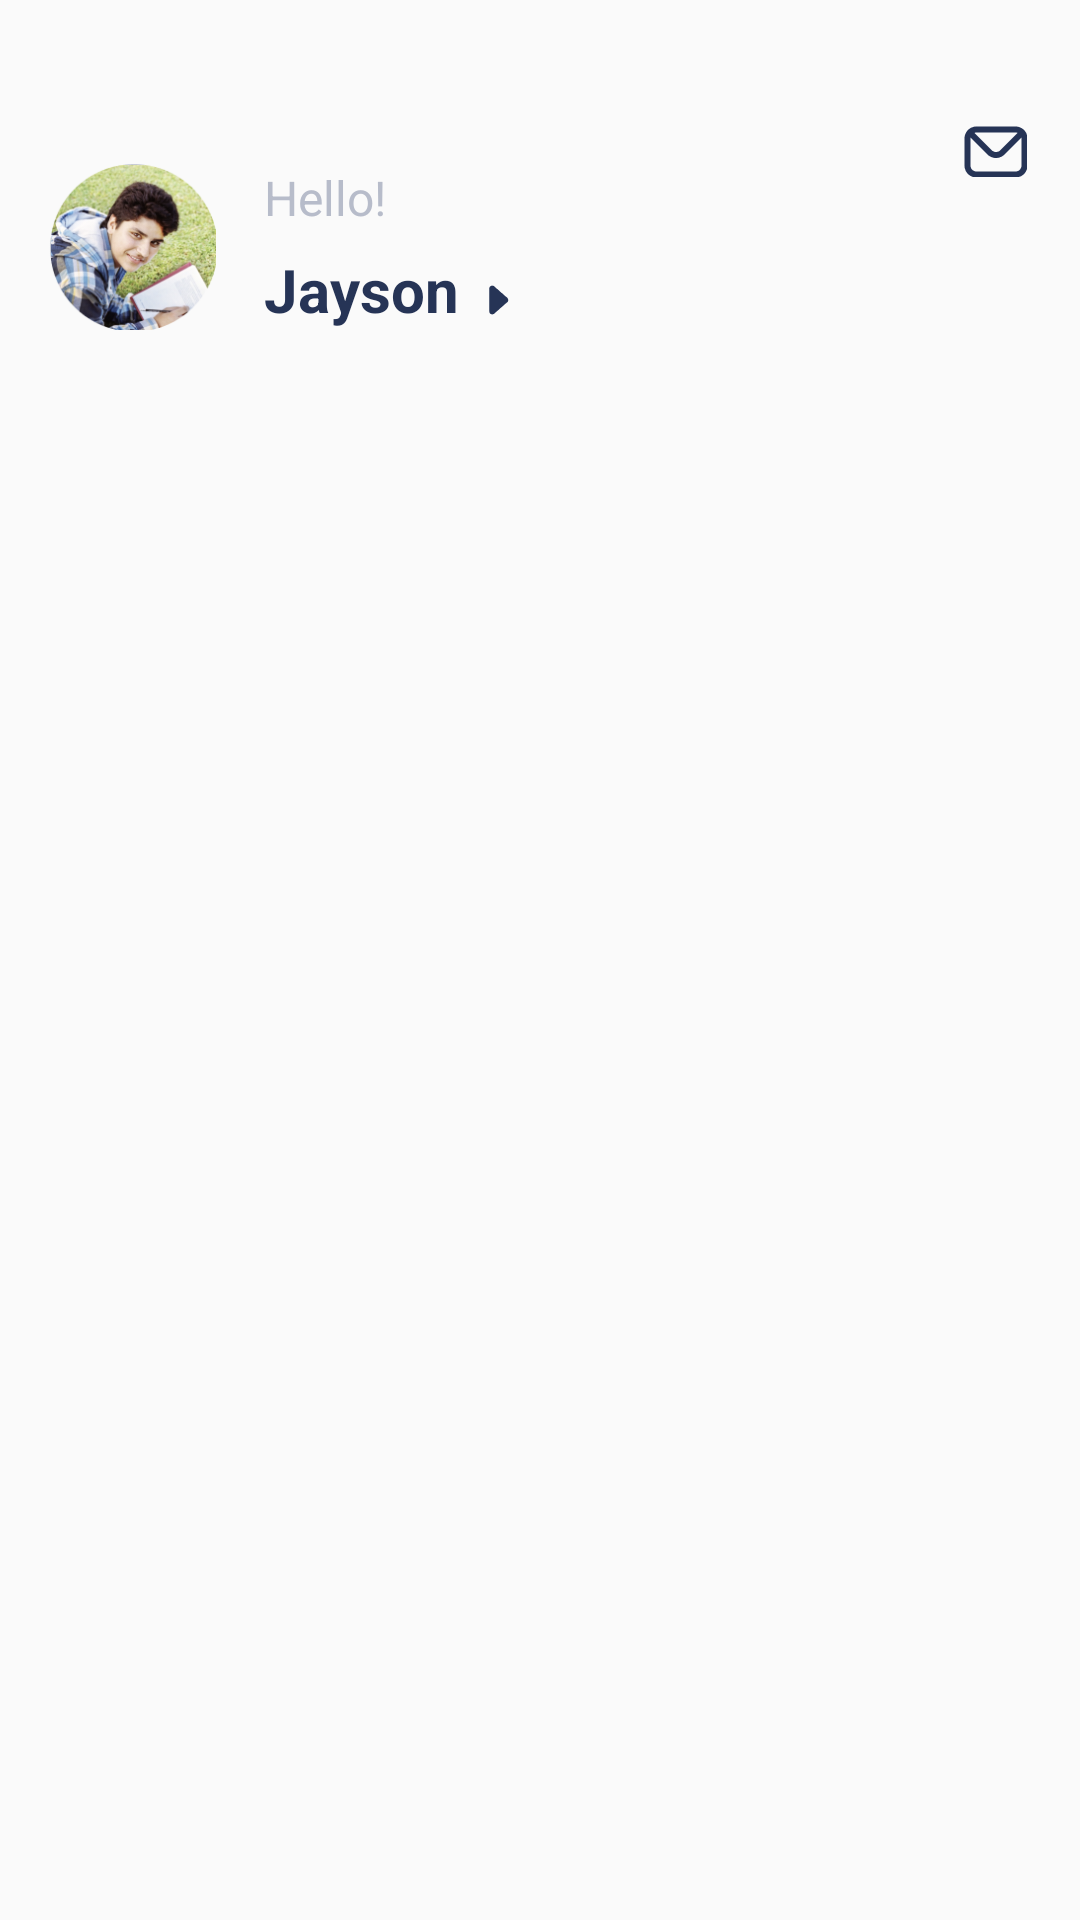

Icons on this 1080px x 1920px Android screen, each with its box as (x1, y1, x2, y2):
maill: (964, 126, 1027, 177)
profile: (50, 164, 216, 330)
tri: (489, 285, 509, 315)
